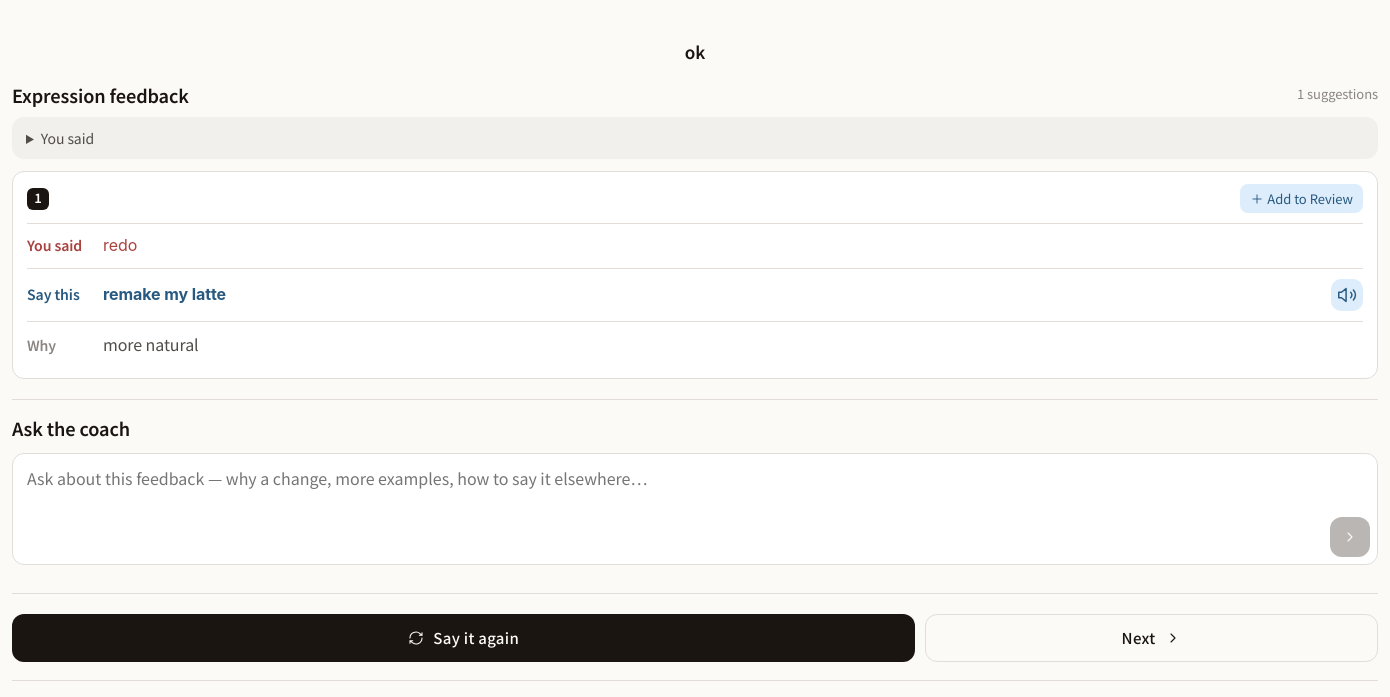
PracticePage feedback › adds a gap to Review and toggles to 'In Review'
(page scrolled)
Click the button "Add to Review".
click(1302, 199)  # box [1240,184,1363,213]
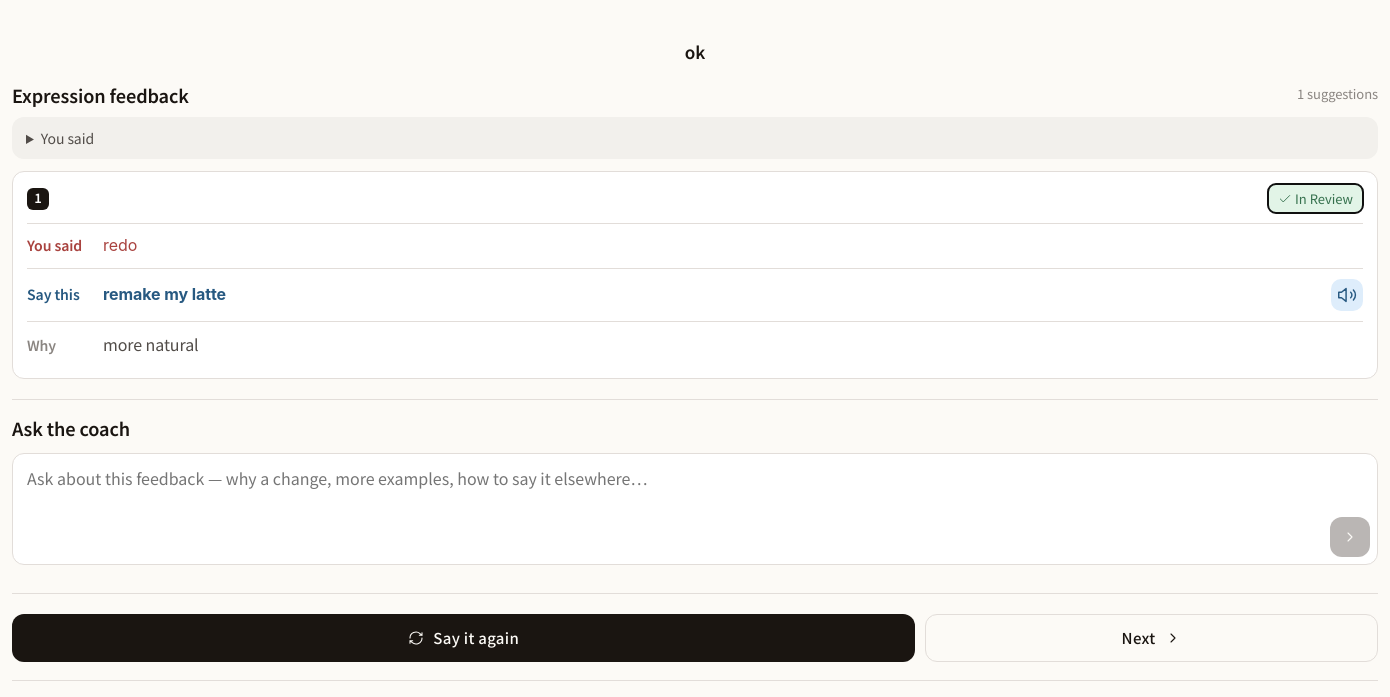
Expected: the button "In Review" is shown, [1268,184,1363,213]
